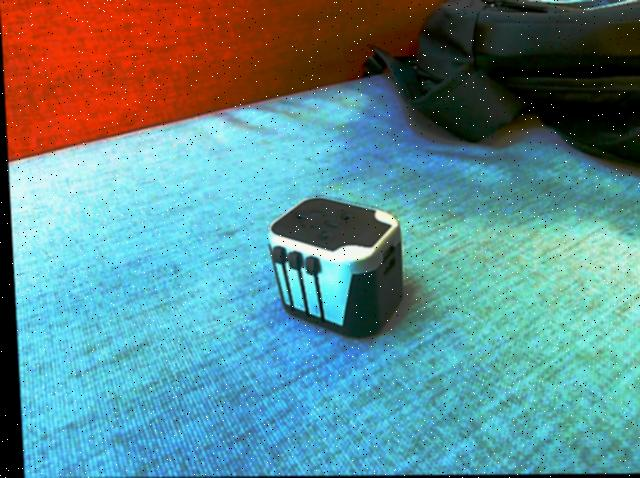adapter: (263, 195, 403, 339)
